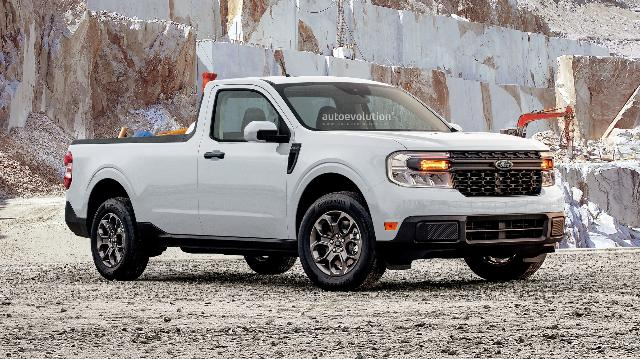pickup-truck: (63, 71, 566, 293)
